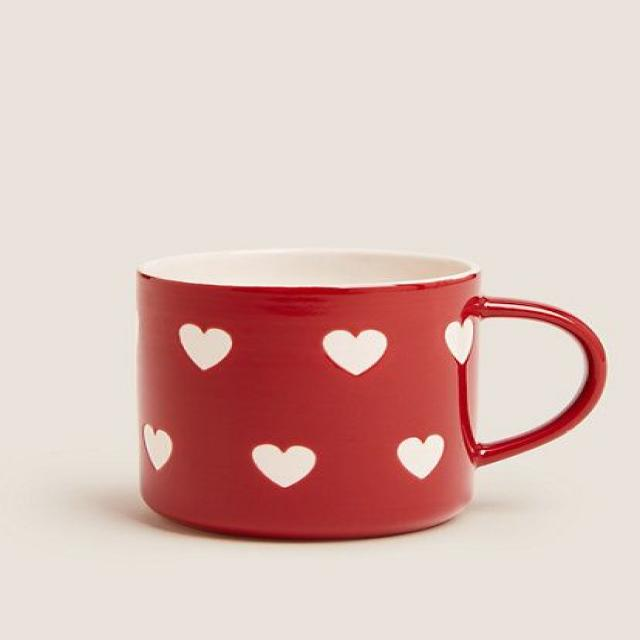glass cup: (138, 248, 606, 542)
